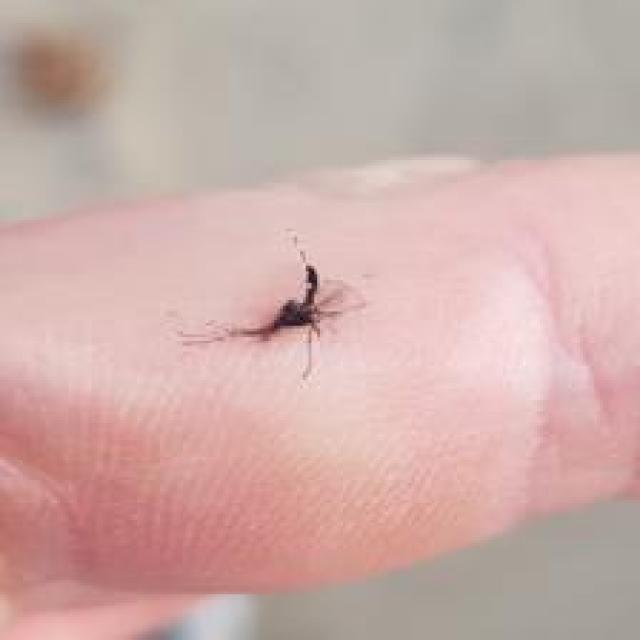Aedes albopictus: (176, 229, 364, 380)
